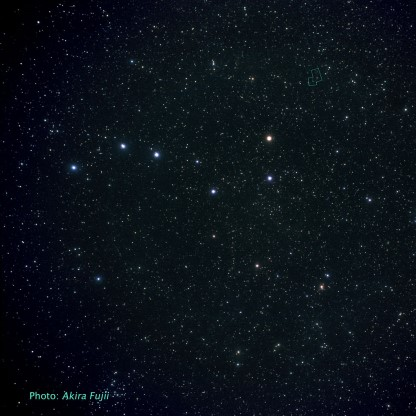Ursa Major: (63, 156, 82, 178), (146, 143, 165, 164), (204, 183, 225, 202), (256, 127, 277, 146), (261, 167, 278, 186), (187, 152, 204, 170), (113, 137, 129, 156)
